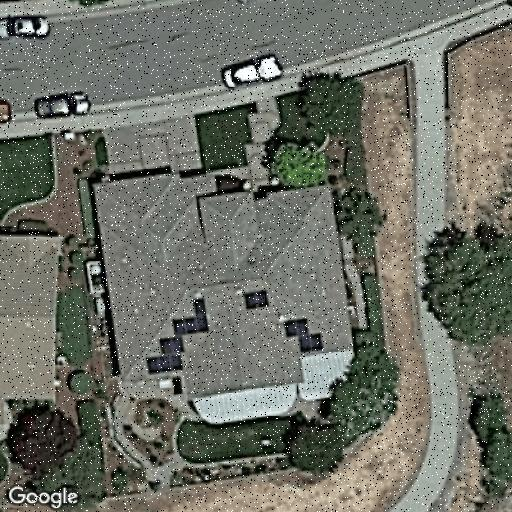solar-panel: (143, 296, 212, 376), (282, 314, 326, 354), (240, 286, 272, 312)
